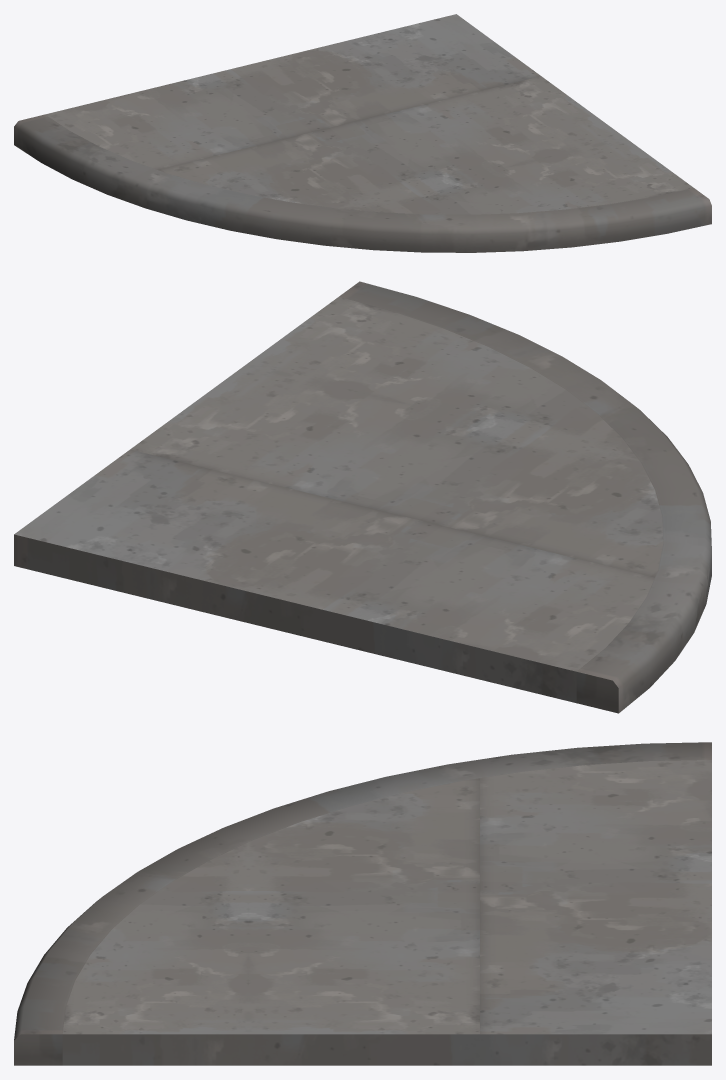
The picture shows the model from 3 angles, top to bottom: view 1: azimuth 30°, elevation 25°; view 2: azimuth 150°, elevation 25°; view 3: azimuth 270°, elevation 25°; orthographic projection. The views are drawn at different scales.
Parts seen in each view (by area): view 1: Sidewalk_Corner_Round_3m; view 2: Sidewalk_Corner_Round_3m; view 3: Sidewalk_Corner_Round_3m.
Part boxes in pixels (x1=…): Sidewalk_Corner_Round_3m: x1=14, y1=14, x2=711, y2=252; Sidewalk_Corner_Round_3m: x1=14, y1=281, x2=711, y2=713; Sidewalk_Corner_Round_3m: x1=14, y1=742, x2=711, y2=1065.
Bounding box in the file's own units: 3.01 × 0.15 × 3.01.
Materials: 1 (1 with a texture image).
